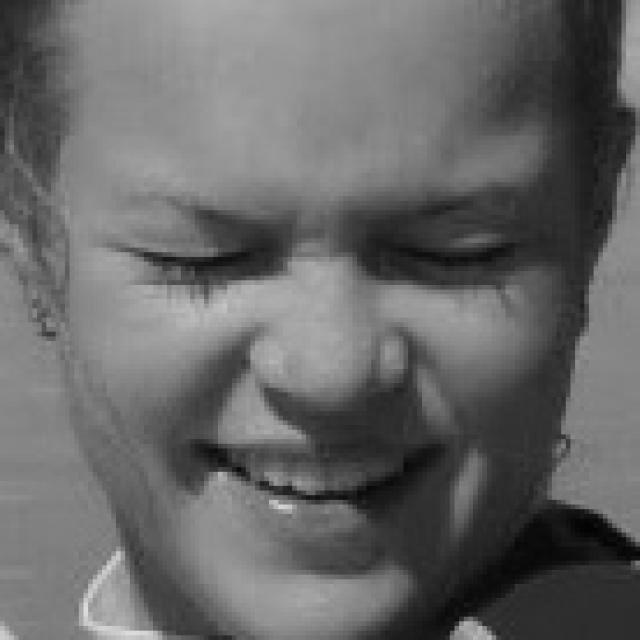real: (44, 18, 586, 616), (114, 175, 546, 316)
